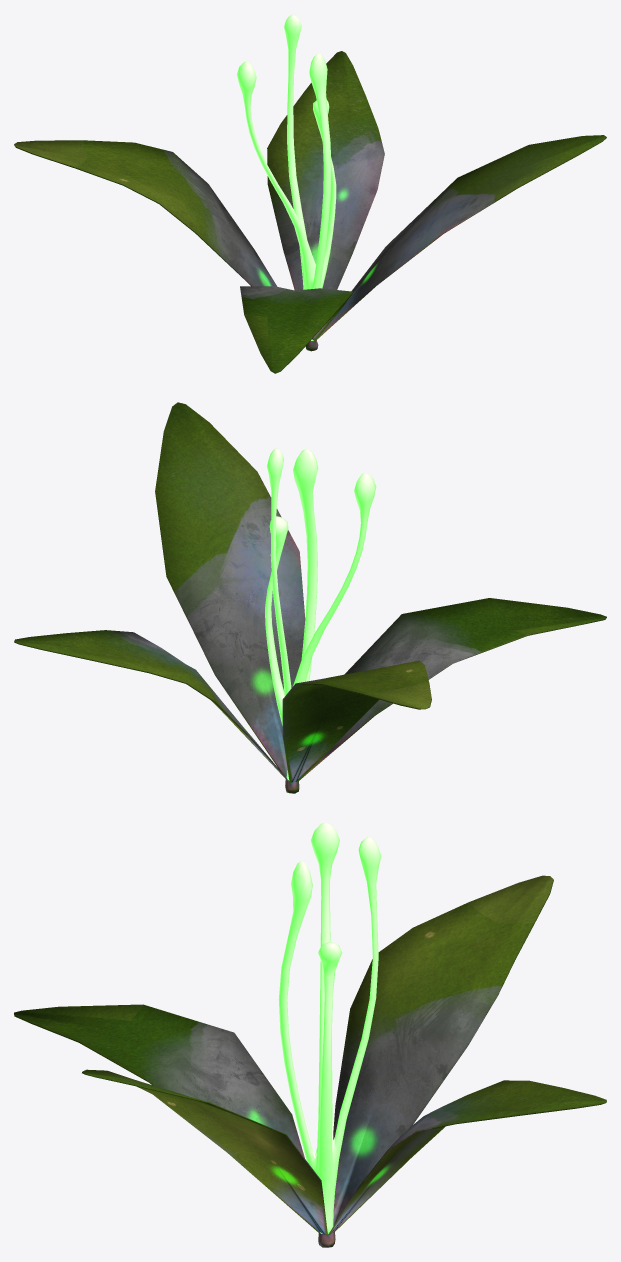
File: AlienWildPlantone.fbx
3 views of the same model, one above another, from view 1: azimuth 30°, elevation 25°; view 2: azimuth 150°, elevation 25°; view 3: azimuth 270°, elevation 25° (orthographic). The views are drawn at different scales.
Parts seen in each view (by area): view 1: Cube.003, AlienStamen; view 2: Cube.003, AlienStamen; view 3: Cube.003, AlienStamen.
Part boxes in pixels (x1=…): Cube.003: x1=14, y1=51, x2=606, y2=373; AlienStamen: x1=237, y1=14, x2=336, y2=340; Cube.003: x1=14, y1=402, x2=606, y2=793; AlienStamen: x1=265, y1=448, x2=376, y2=780; Cube.003: x1=14, y1=875, x2=606, y2=1247; AlienStamen: x1=278, y1=822, x2=381, y2=1233.
Size of the model in its own units: 737 by 556 by 731.
2 materials, 1 textured.
